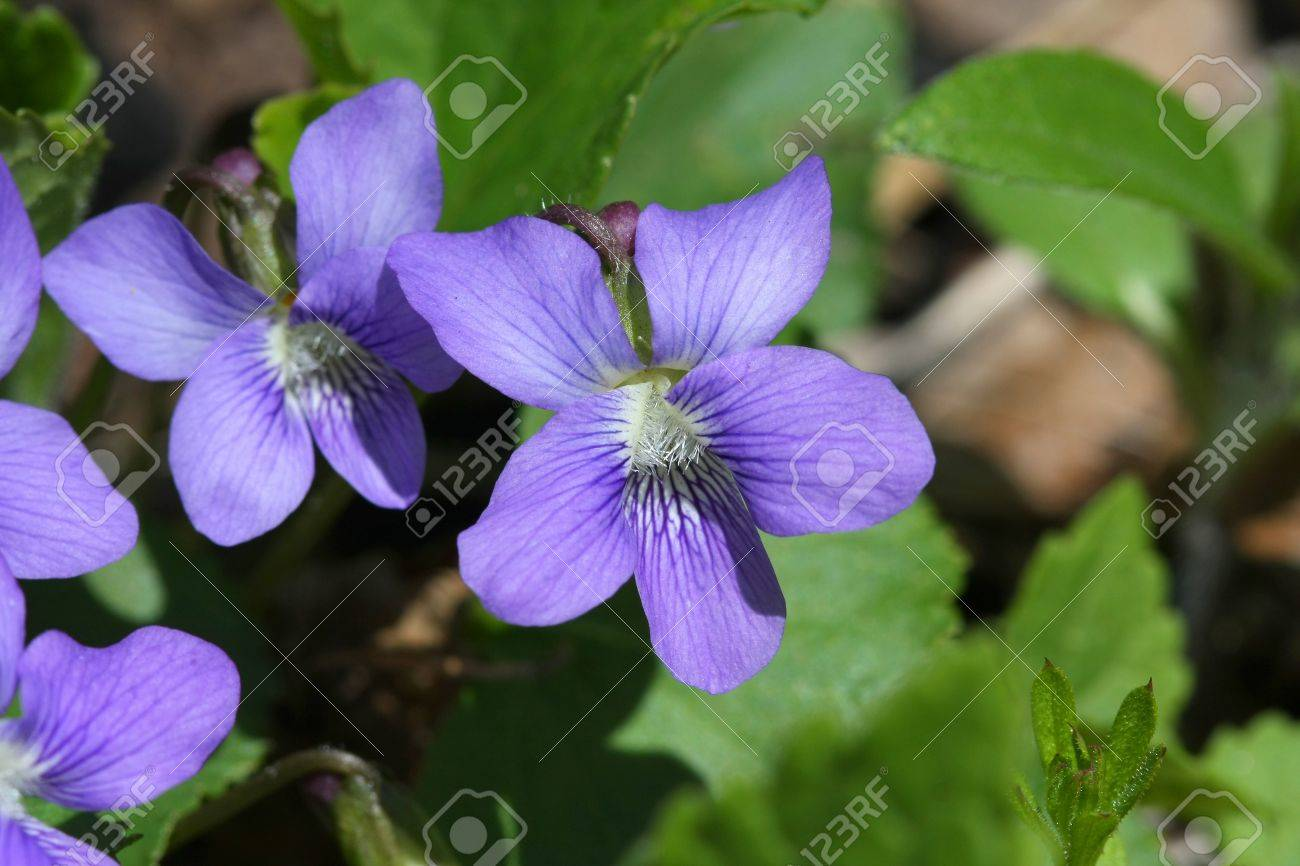violet: (373, 181, 930, 690), (33, 97, 442, 519), (3, 575, 247, 857)
